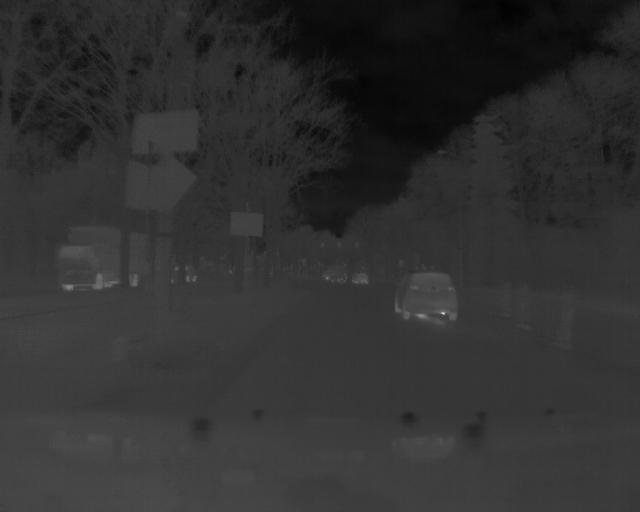car: (55, 215, 148, 293), (389, 272, 459, 332), (352, 271, 369, 284)
